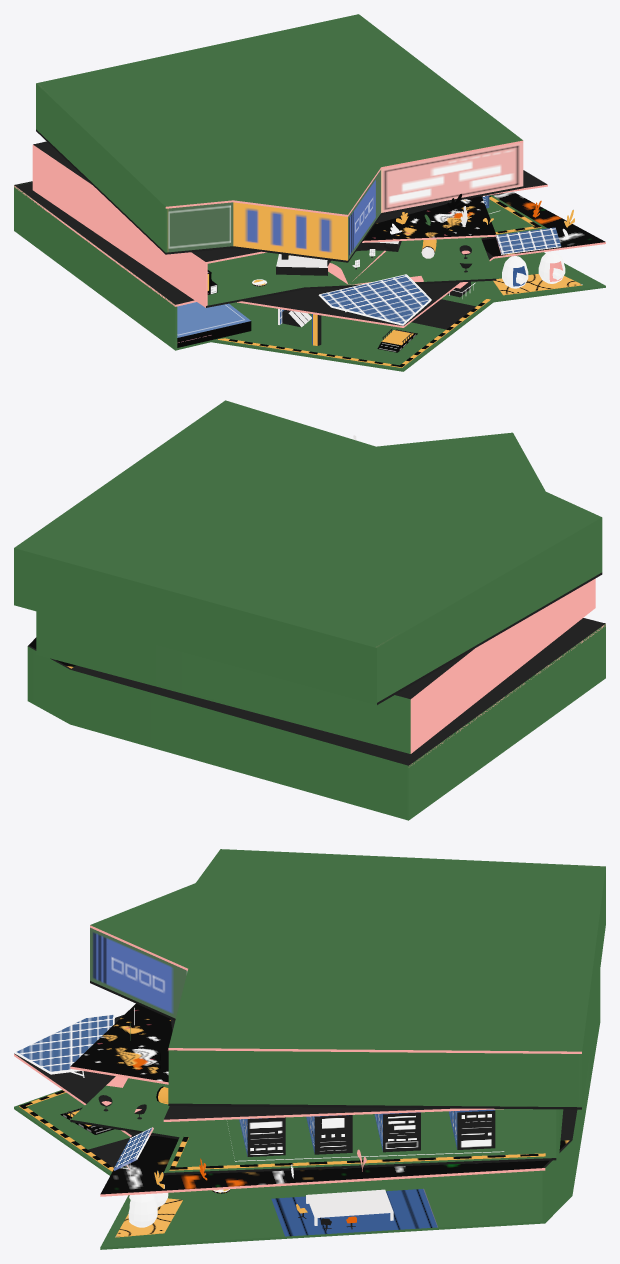
Rendered from 中关村带贴图.fbx.
The picture shows the model from 3 angles, top to bottom: view 1: azimuth 30°, elevation 25°; view 2: azimuth 150°, elevation 25°; view 3: azimuth 270°, elevation 25°; orthographic projection. The views are drawn at different scales.
Parts seen in each view (by area): view 1: 挤压_2_3, 平面_3, 平面_1, 太阳能_大, 平面_3_2, CC, 平面_2_2, 挤压_2_2, 太阳能_小, 平面_2, 立方体_4, 球体_1 (+3 smaller); view 2: 挤压_2_3; view 3: 挤压_2_3, 平面_4, 立方体_4_2, 平面_2_2, 平面, 太阳能_大, 立方体, jixiang, 立方体_1_6, 立方体_7, 立方体_2_7, _B_Y_1 (+5 smaller).
Boxes of the visible parts, x1,y1,x2,y2 form: 挤压_2_3: (14, 14, 605, 371); 平面_3: (381, 142, 523, 212); 平面_1: (233, 202, 347, 260); 太阳能_大: (318, 274, 431, 325); 平面_3_2: (167, 202, 233, 252); CC: (177, 302, 251, 347); 平面_2_2: (348, 169, 381, 260); 挤压_2_2: (276, 241, 401, 275); 太阳能_小: (496, 227, 561, 254); 平面_2: (411, 299, 475, 329); 立方体_4: (493, 274, 582, 295); 球体_1: (538, 251, 565, 283); 挤压_2_3: (14, 400, 605, 820); 挤压_2_3: (14, 849, 605, 1249); 平面_4: (168, 1050, 579, 1106); 立方体_4_2: (227, 1109, 504, 1161); 平面_2_2: (90, 927, 187, 1018); 平面: (271, 1188, 437, 1236); 太阳能_大: (14, 1014, 114, 1077); 立方体: (306, 1189, 393, 1225); jixiang: (449, 1109, 495, 1149); 立方体_1_6: (306, 1115, 352, 1154); 立方体_7: (239, 1117, 285, 1156); 立方体_2_7: (374, 1112, 420, 1152); _B_Y_1: (169, 1153, 545, 1170).
Bounding box in the file's own units: 3121 × 1068 × 3379.
